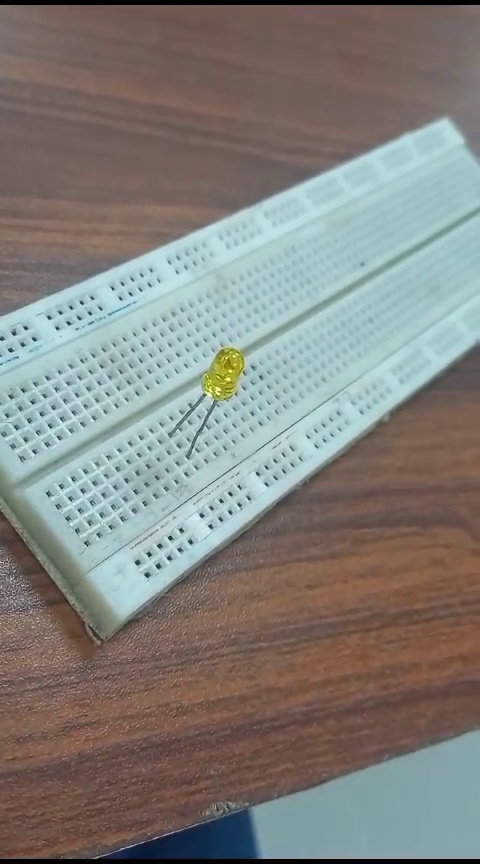LED: (166, 337, 255, 460)
